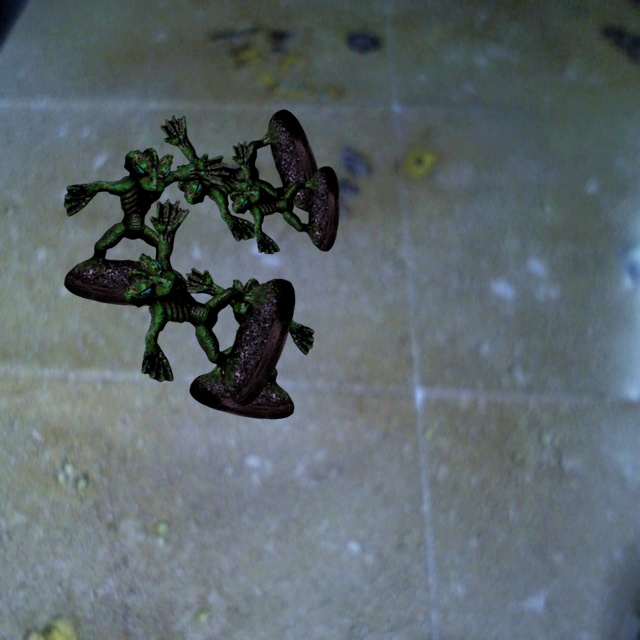pieza_juego: (124, 199, 294, 405), (64, 148, 228, 305), (160, 109, 321, 241), (182, 268, 314, 419), (229, 141, 339, 254)
